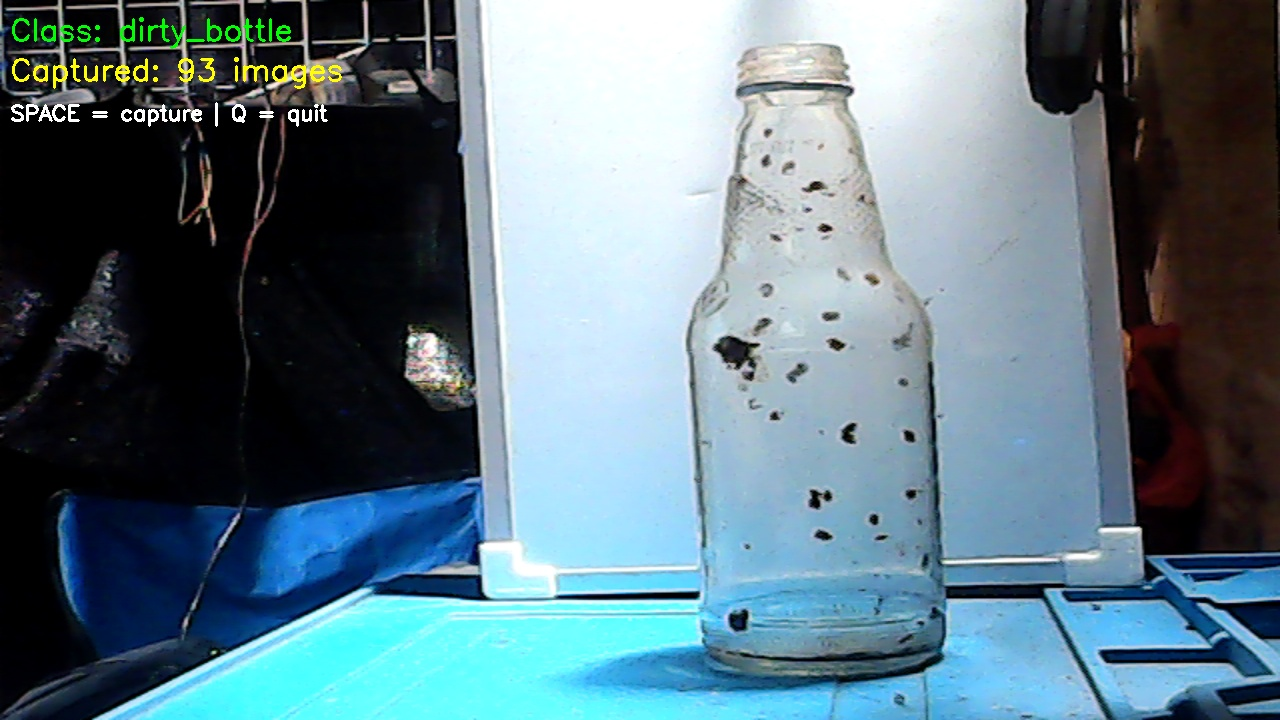dirty_bottle: (672, 45, 952, 693)
